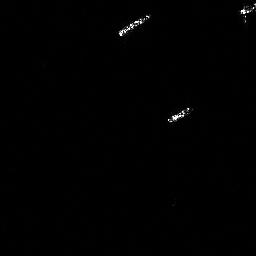ship: (115, 11, 153, 39), (164, 103, 197, 124), (237, 1, 256, 24)
